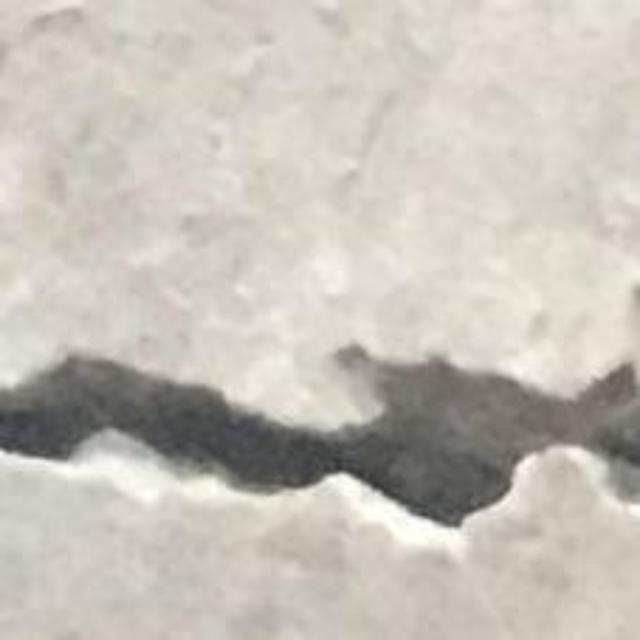crack: (0, 344, 639, 527)
